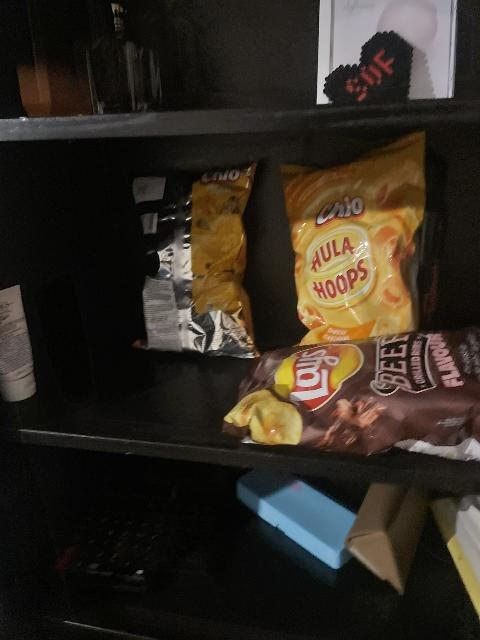Chio Cascaval 125g: (133, 163, 262, 357)
Chio Hula Hoops Cheese 70g: (284, 132, 427, 347)
Lays Beef Grilled Ribs 125g: (234, 325, 478, 455)
